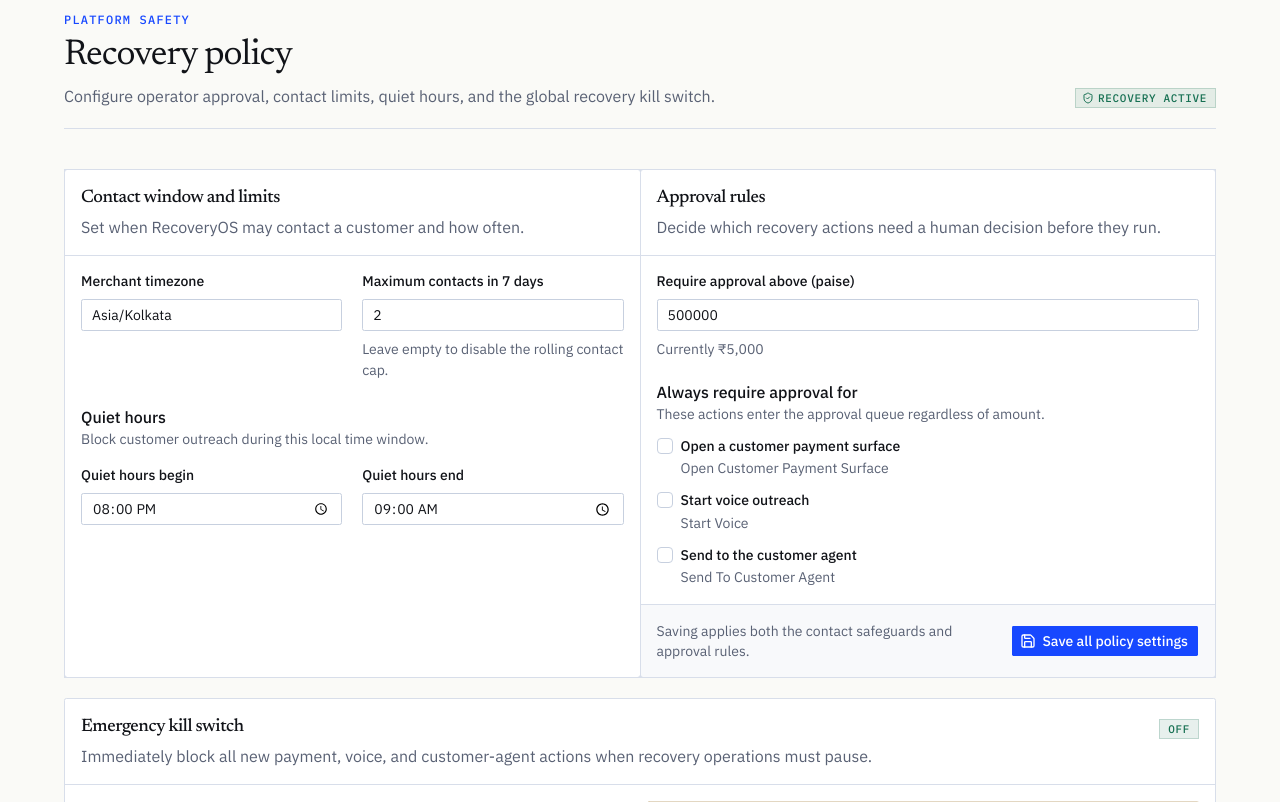
Scenario: PolicySettingsPanel › persists action-based approval requirements
Click the checkbox named "Start voice outreach" next to "Start voice outreach": click(664, 500) top-left (656, 492), bottom-right (672, 508)
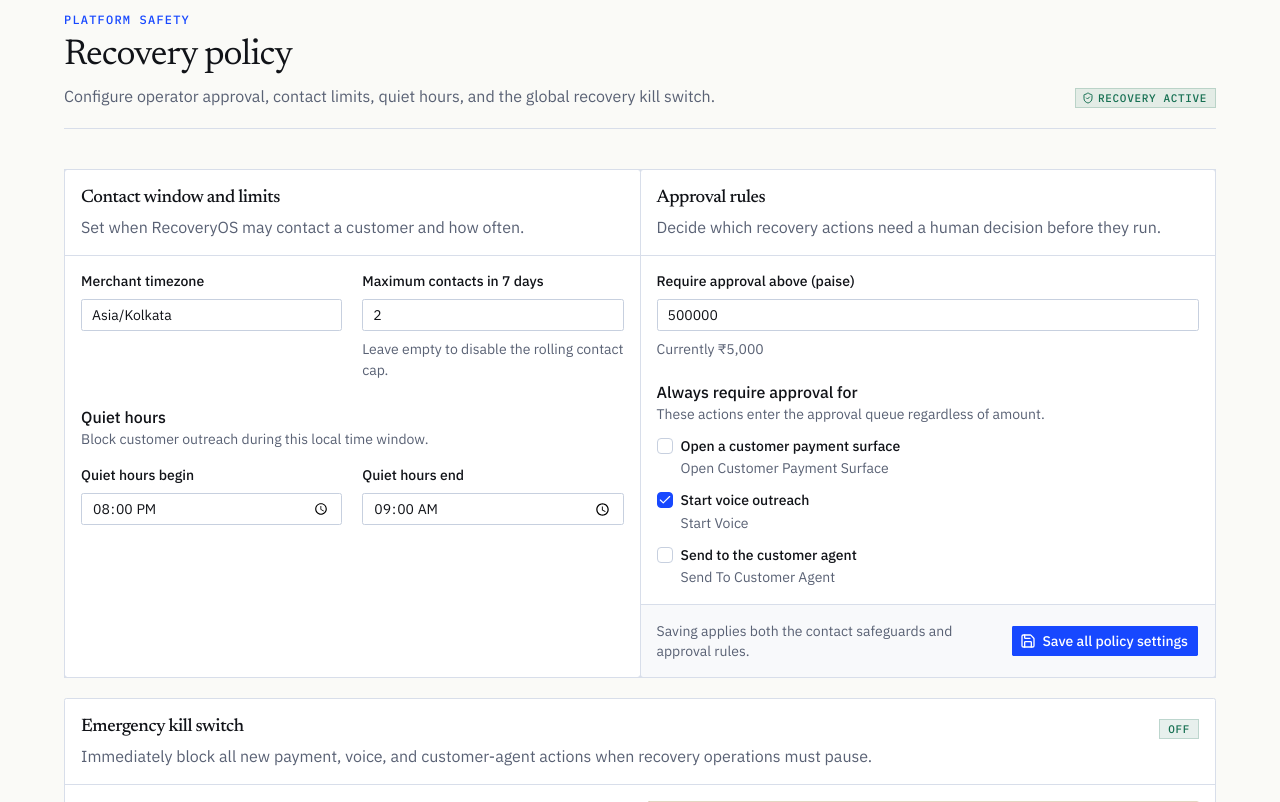
Click the button with aria-label "Save policy": click(1105, 641) top-left (1012, 625), bottom-right (1199, 657)
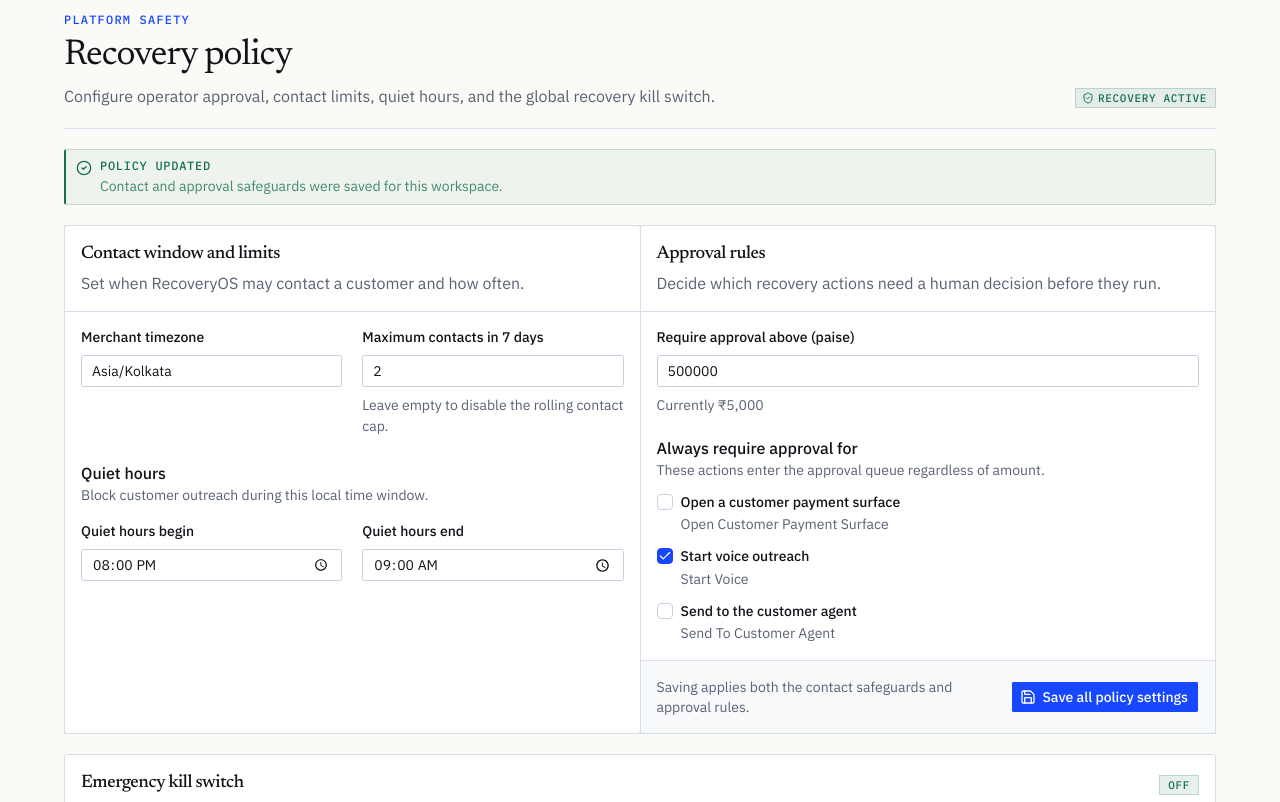
Now the text "safeguards were saved" is shown, box top-left (100, 177), bottom-right (503, 195)
